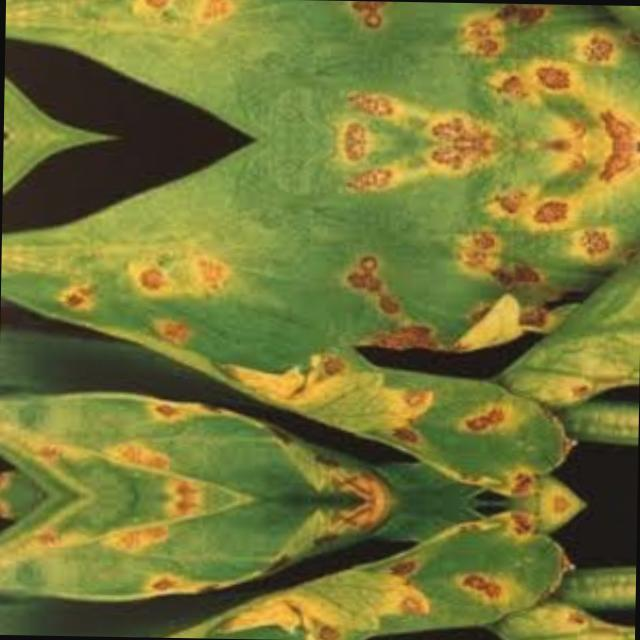Lettuce - Anthracnose: (0, 134, 640, 505), (0, 493, 636, 640), (3, 0, 640, 145)
